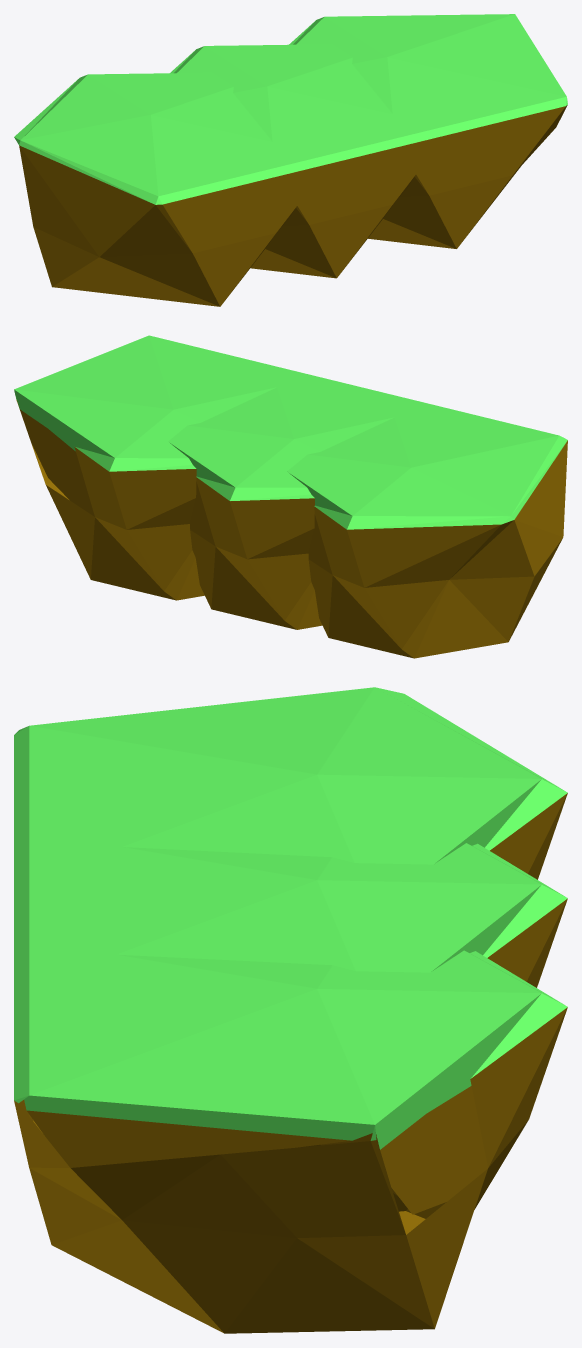
The model's file is small tile.FBX.
3 renders of one model, top to bottom at view 1: azimuth 30°, elevation 25°; view 2: azimuth 150°, elevation 25°; view 3: azimuth 270°, elevation 25°, orthographic. The views are drawn at different scales.
Visible parts, largest first — view 1: Land001, Land003, Land002; view 2: Land001, Land003, Land002; view 3: Land003, Land001, Land002.
Boxes of the visible parts, left/top/right/bottom form: Land001: left=14, top=72, right=330, bottom=306; Land003: left=289, top=14, right=567, bottom=248; Land002: left=170, top=44, right=446, bottom=278; Land001: left=287, top=393, right=567, bottom=658; Land003: left=14, top=335, right=319, bottom=600; Land002: left=168, top=365, right=394, bottom=629; Land003: left=14, top=940, right=567, bottom=1333; Land001: left=14, top=687, right=567, bottom=885; Land002: left=14, top=831, right=567, bottom=1211.
Size of the model in its own units: 297 by 90.44 by 153.
